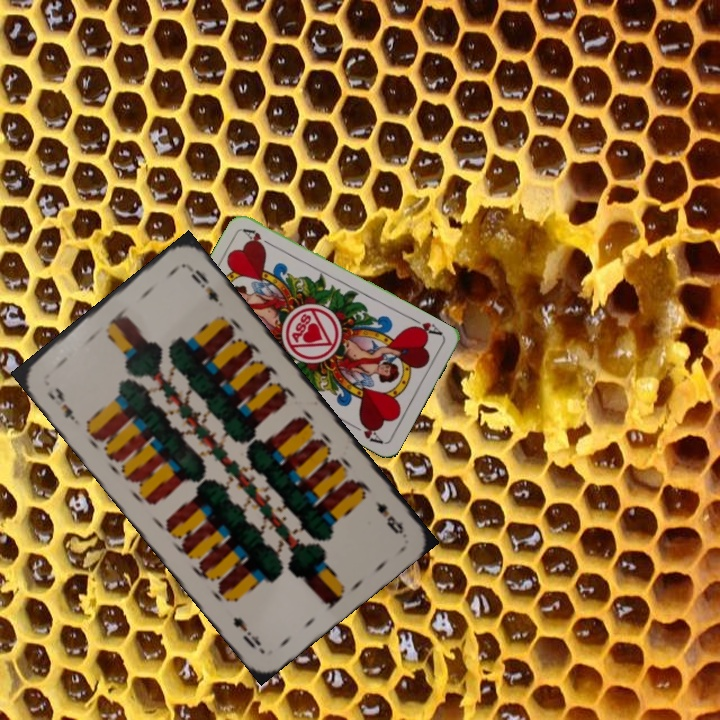E9: (370, 496, 407, 537), (43, 383, 78, 423)
HA: (407, 314, 445, 339)
